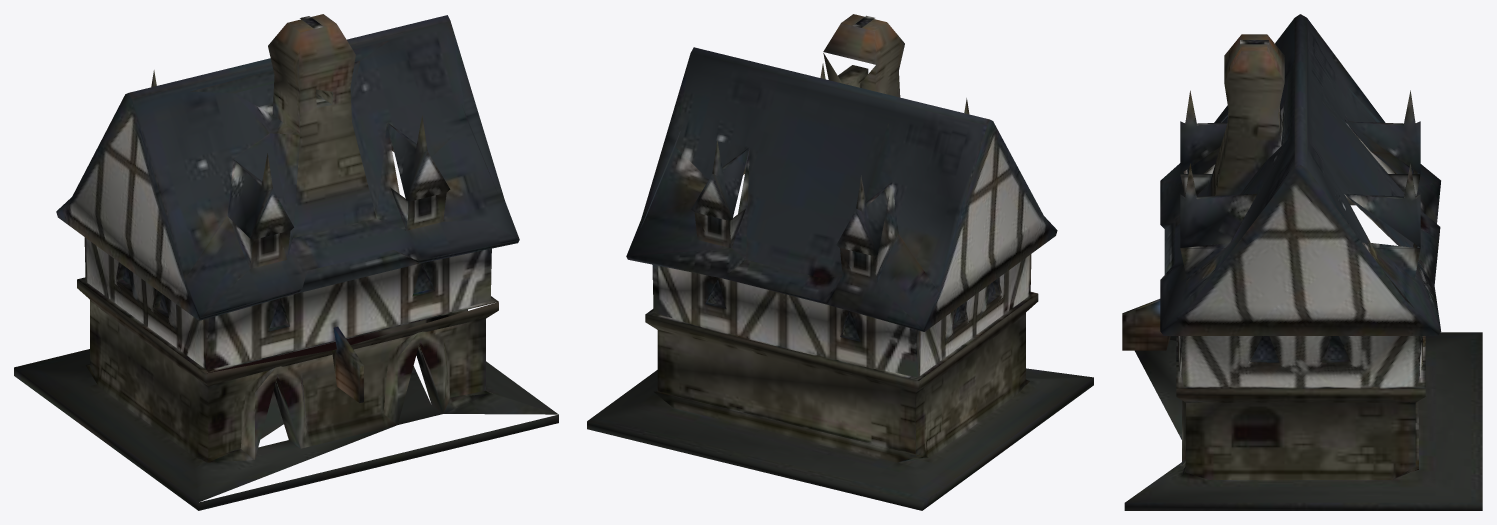
Rendered from house-8.glb.
3 views of the same model, side by side, from view 1: azimuth 30°, elevation 25°; view 2: azimuth 150°, elevation 25°; view 3: azimuth 270°, elevation 25° (orthographic). The views are drawn at different scales.
Visible parts, largest first — view 1: tripo_node_1bee6a6b-3f90-488f-b9a1-98b67; view 2: tripo_node_1bee6a6b-3f90-488f-b9a1-98b67; view 3: tripo_node_1bee6a6b-3f90-488f-b9a1-98b67.
Part boxes in pixels (box(x1,y1,x2,y2)): tripo_node_1bee6a6b-3f90-488f-b9a1-98b67: box(14, 14, 558, 510); tripo_node_1bee6a6b-3f90-488f-b9a1-98b67: box(587, 14, 1093, 510); tripo_node_1bee6a6b-3f90-488f-b9a1-98b67: box(1122, 14, 1482, 510).
Bounding box in the file's own units: 14.3 × 15 × 12.77.
1 material, 1 textured.
